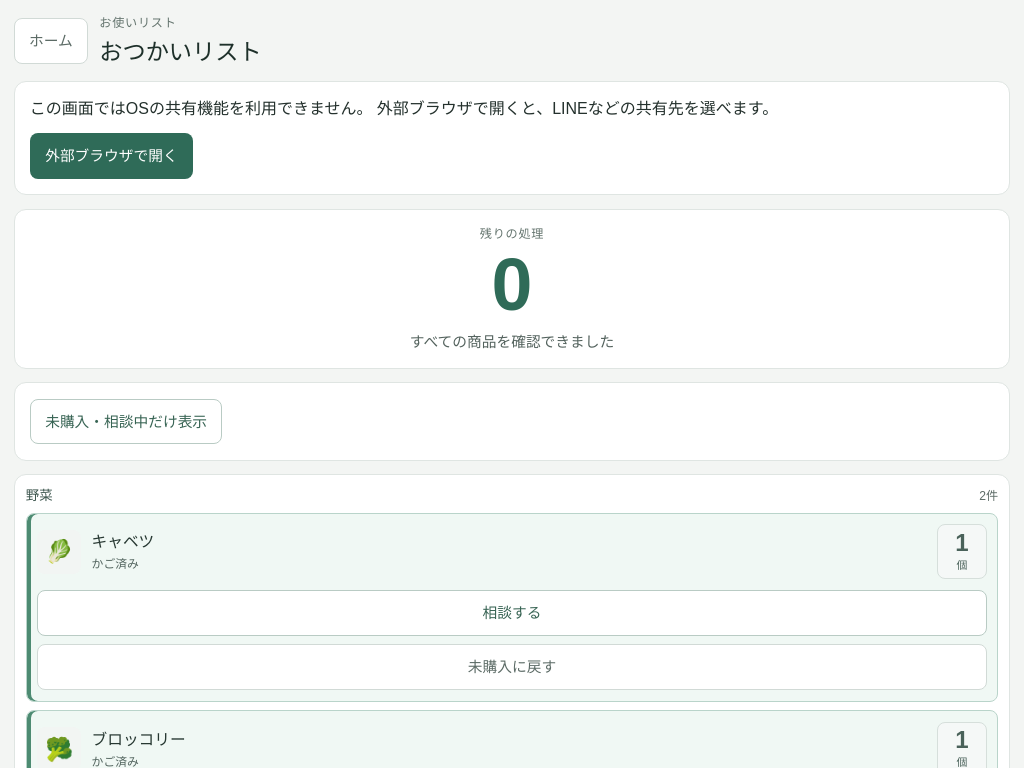
Test case: ShoppingListPage buyer flow › undoes a confirmed cart change and restores the exact cart order
The width and height of the screenshot is (1024, 768).
Click the button "未購入に戻す" at (512, 667), box [37,644,987,690]
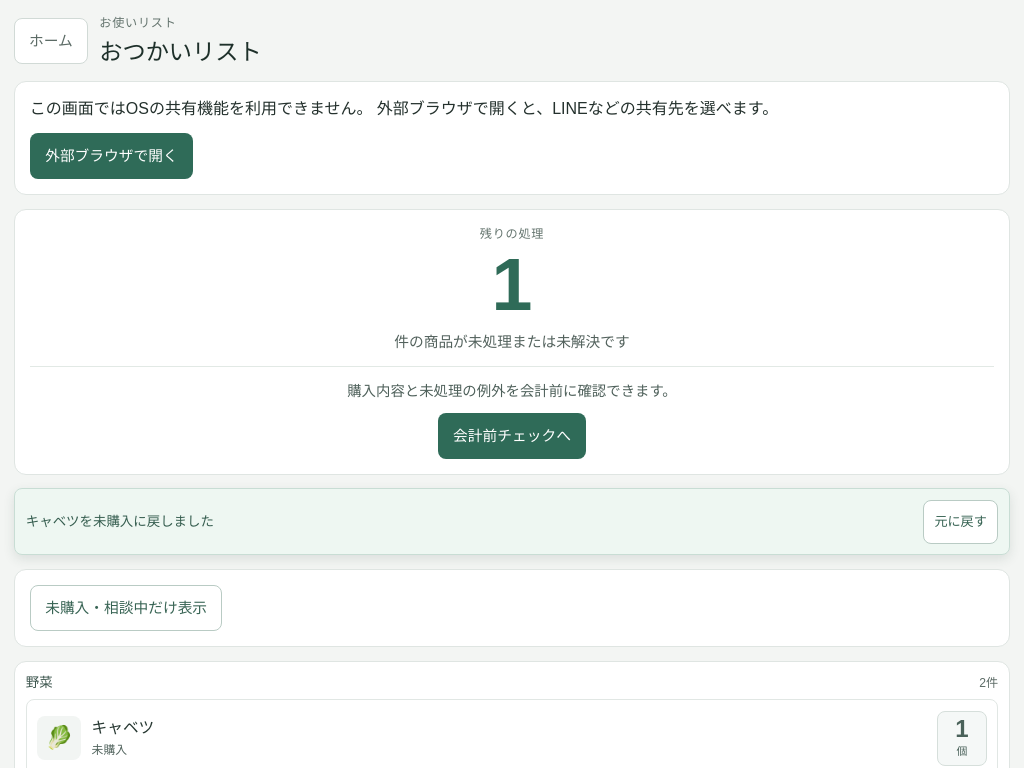
Click the button "元に戻す" at (961, 522), box [923,500,998,544]
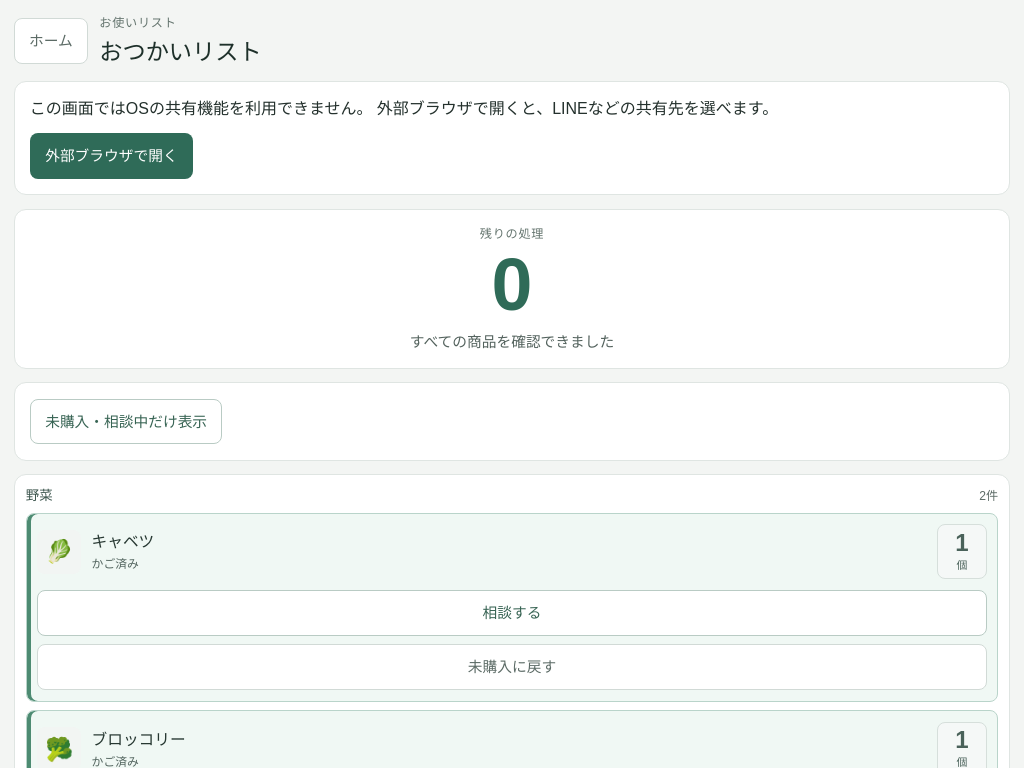
Result: the text "元に戻す" is gone
